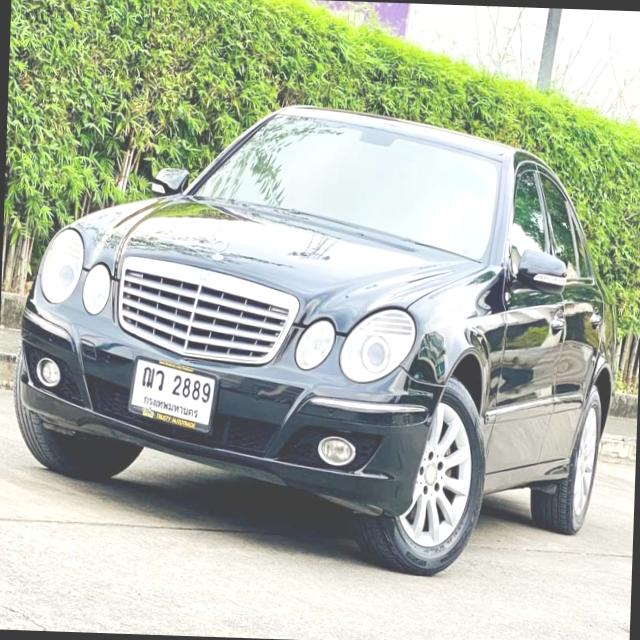license_plate: (125, 353, 222, 438)
